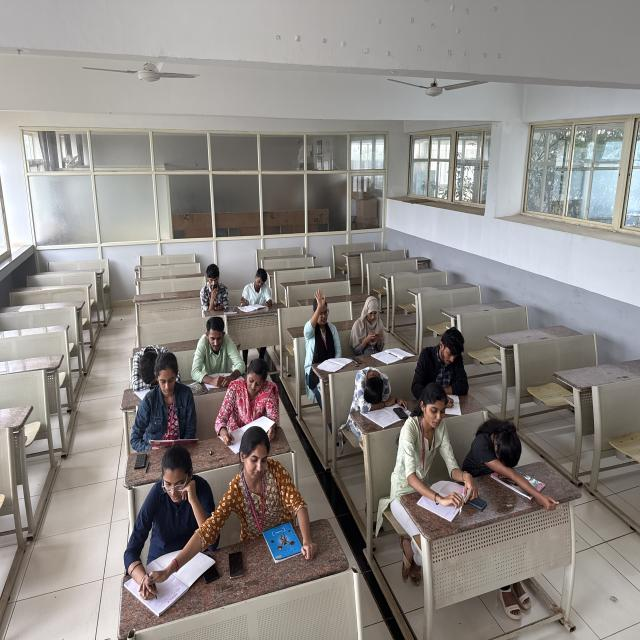Hand Rising: (288, 285, 349, 374)
Reading: (132, 351, 201, 448), (239, 266, 277, 313)
Sleeping: (463, 412, 562, 512), (345, 359, 411, 429), (125, 337, 181, 387)
Using Phone: (347, 286, 404, 356), (194, 255, 236, 312)
Writing: (122, 451, 221, 605), (412, 319, 482, 410), (214, 359, 284, 446)
